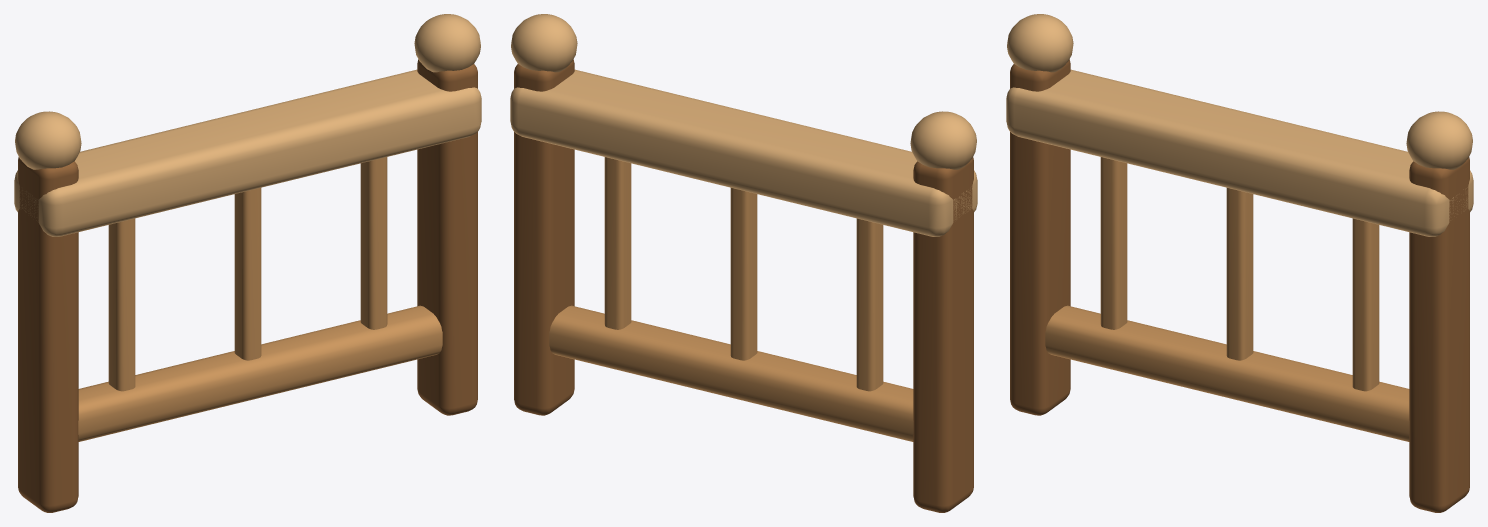
Rendered from rail.obj.
3 renders of one model, left to right at view 1: azimuth 30°, elevation 25°; view 2: azimuth 150°, elevation 25°; view 3: azimuth 330°, elevation 25°, orthographic.
Parts seen in each view (by area): view 1: rail_oakLight, rail_oakDark, rail_oak; view 2: rail_oakLight, rail_oakDark, rail_oak; view 3: rail_oakLight, rail_oakDark, rail_oak.
Part boxes in pixels (bbox=[...]): rail_oakLight: bbox=[14, 14, 481, 236]; rail_oakDark: bbox=[18, 59, 477, 512]; rail_oak: bbox=[78, 157, 442, 441]; rail_oakLight: bbox=[510, 14, 977, 236]; rail_oakDark: bbox=[514, 59, 973, 512]; rail_oak: bbox=[549, 157, 913, 441]; rail_oakLight: bbox=[1006, 14, 1473, 236]; rail_oakDark: bbox=[1010, 59, 1469, 512]; rail_oak: bbox=[1045, 157, 1409, 441].
Size of the model in its own units: 0.836 by 0.678 by 0.13.
